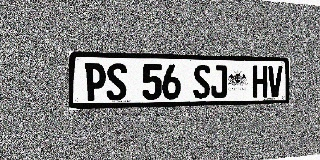5: (143, 64, 162, 100)
6: (162, 64, 181, 99)
H: (253, 66, 268, 97)
J: (211, 65, 227, 98)
P: (84, 63, 106, 101)
S: (106, 63, 127, 101), (193, 65, 210, 99)
V: (268, 66, 282, 97)
